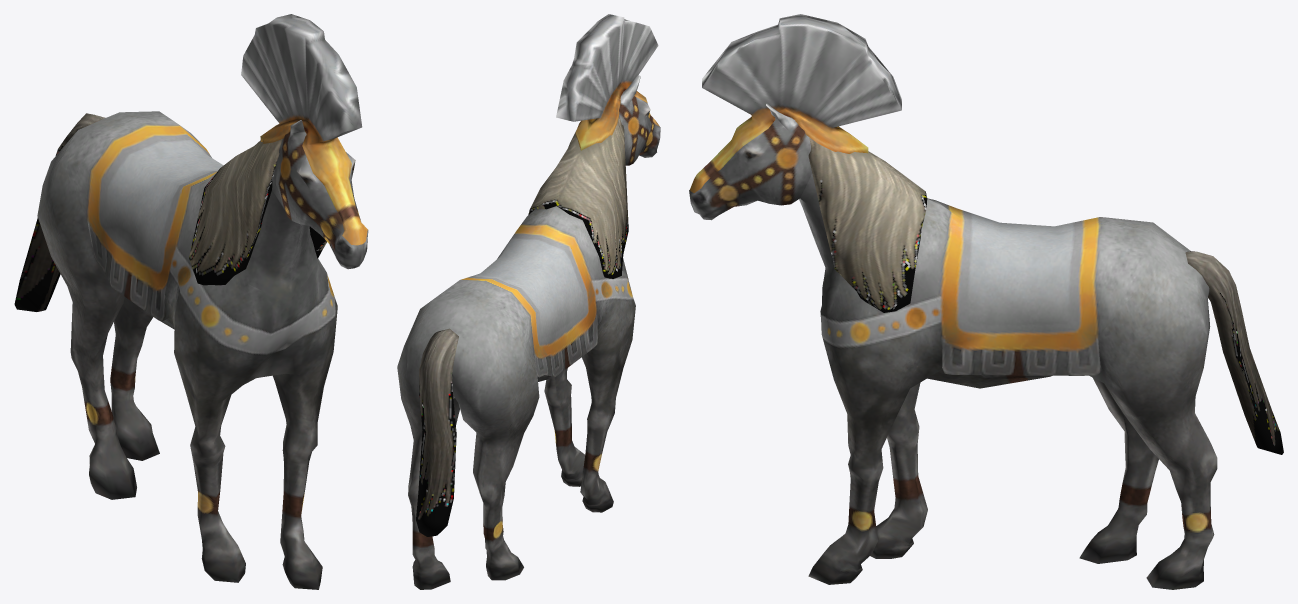
Rendered from body-base.glb.
3 renders of one model, left to right at view 1: azimuth 30°, elevation 25°; view 2: azimuth 150°, elevation 25°; view 3: azimuth 270°, elevation 25°, orthographic. The views are drawn at different scales.
Bounding box in the file's own units: 0.8074 × 2.9 × 2.85.
Materials: 1 (1 with a texture image).
